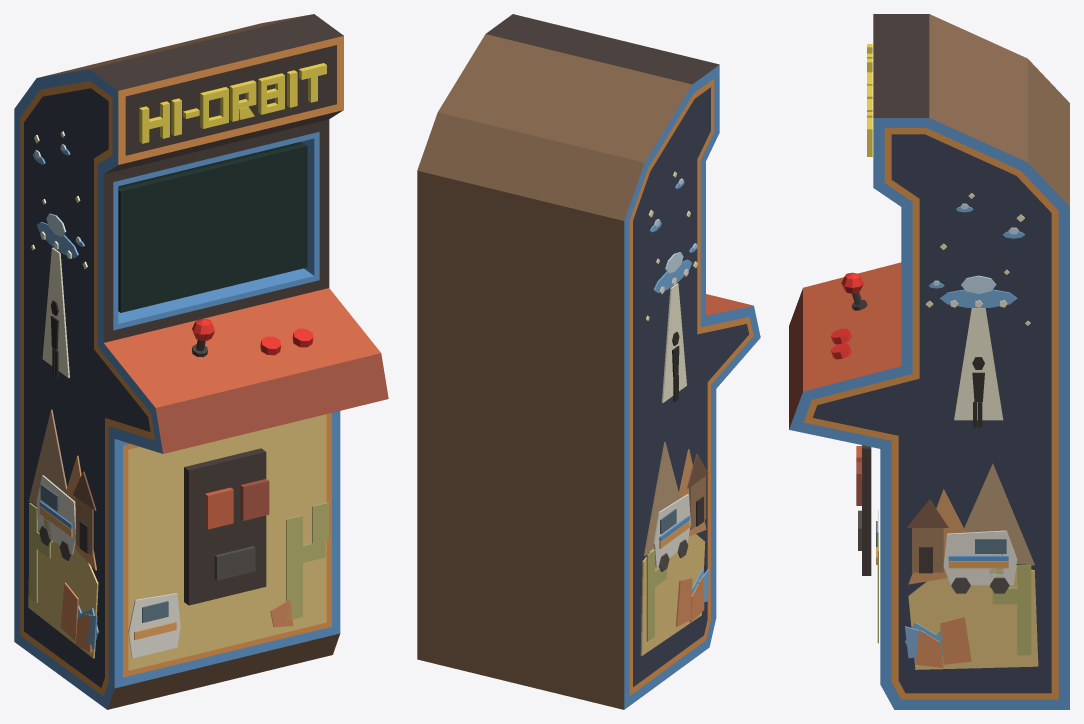
File: hi_orbit.glb
3 views of the same model, side by side, from view 1: azimuth 30°, elevation 25°; view 2: azimuth 150°, elevation 25°; view 3: azimuth 270°, elevation 25° (orthographic). The views are drawn at different scales.
Visible parts, largest first — view 1: Cabinet, CRT, SideArt, CoinDoor, FrontArt, MarqueeText, Buttons, Joystick; view 2: Cabinet, SideArt; view 3: Cabinet, SideArt, CoinDoor, MarqueeText, Joystick, Buttons.
Boxes of the visible parts, box(x1,y1,x2,y2) form: Cabinet: box(14, 14, 388, 709); CRT: box(118, 143, 307, 312); SideArt: box(28, 131, 98, 658); CoinDoor: box(184, 448, 269, 605); FrontArt: box(128, 502, 328, 658); MarqueeText: box(139, 63, 326, 143); Buttons: box(260, 328, 313, 355); Joystick: box(192, 319, 214, 357); Cabinet: box(417, 14, 760, 709); SideArt: box(640, 171, 709, 655); Cabinet: box(789, 14, 1069, 709); SideArt: box(905, 193, 1038, 669); CoinDoor: box(856, 445, 871, 575); MarqueeText: box(867, 44, 872, 156); Joystick: box(841, 272, 867, 310); Buttons: box(831, 328, 851, 359).
Size of the model in its own units: 2.13 by 5.26 by 2.26.
